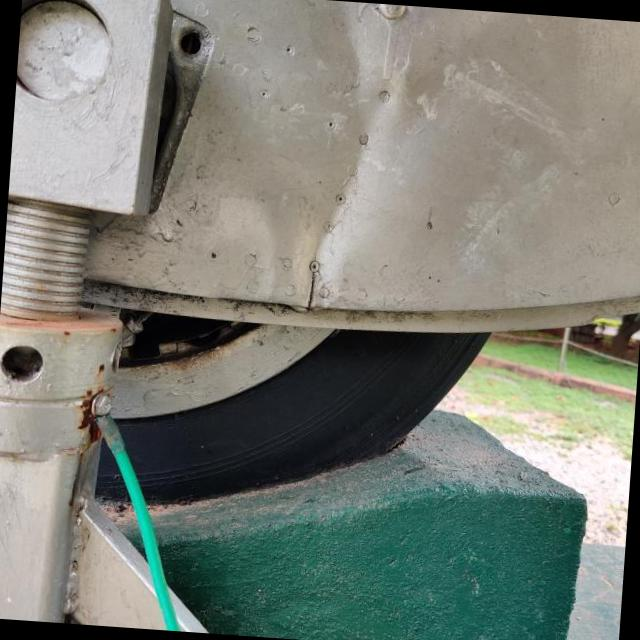Crack: (302, 270, 320, 308)
